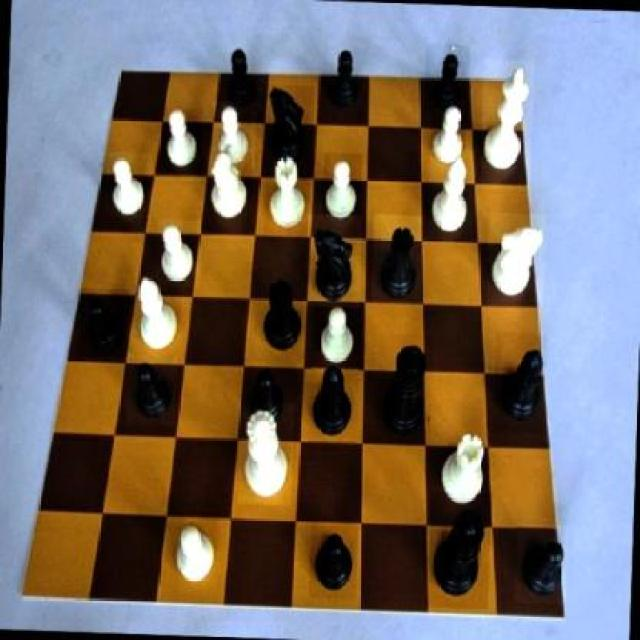bishop: (492, 331, 548, 433), (308, 351, 360, 443)
black-bishop: (375, 332, 433, 452)
black-king: (306, 214, 363, 308), (260, 84, 315, 168)
black-knight: (514, 524, 568, 604), (308, 522, 358, 599), (125, 352, 177, 426), (77, 288, 129, 357), (322, 46, 368, 117), (424, 46, 470, 117), (244, 362, 290, 431), (222, 41, 264, 116)
black-pawn: (428, 491, 492, 608)
black-queen: (371, 214, 423, 304), (258, 274, 308, 357)
black-rook: (428, 147, 477, 240), (132, 272, 186, 356)
white-bishop: (478, 58, 534, 185)
white-king: (486, 214, 546, 309), (204, 151, 252, 228)
white-knight: (168, 514, 222, 588), (312, 300, 362, 371), (103, 150, 152, 218), (156, 220, 202, 289), (212, 100, 256, 168), (322, 152, 362, 225), (160, 108, 203, 174), (429, 100, 467, 171)
white-pawn: (237, 402, 295, 506)
white-queen: (436, 423, 492, 514), (263, 151, 311, 237)
